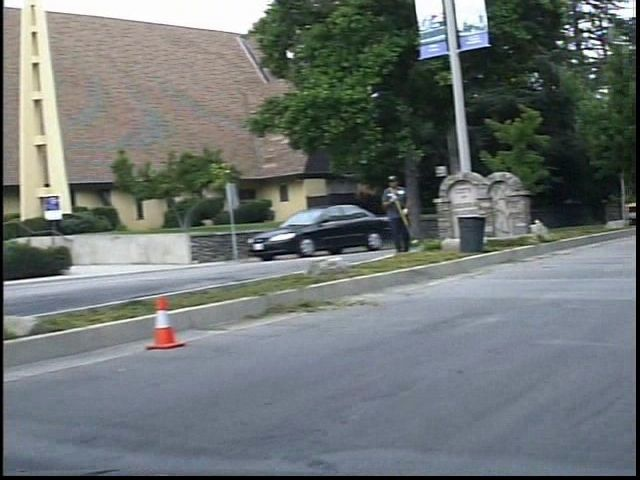person: (390, 174, 428, 261)
